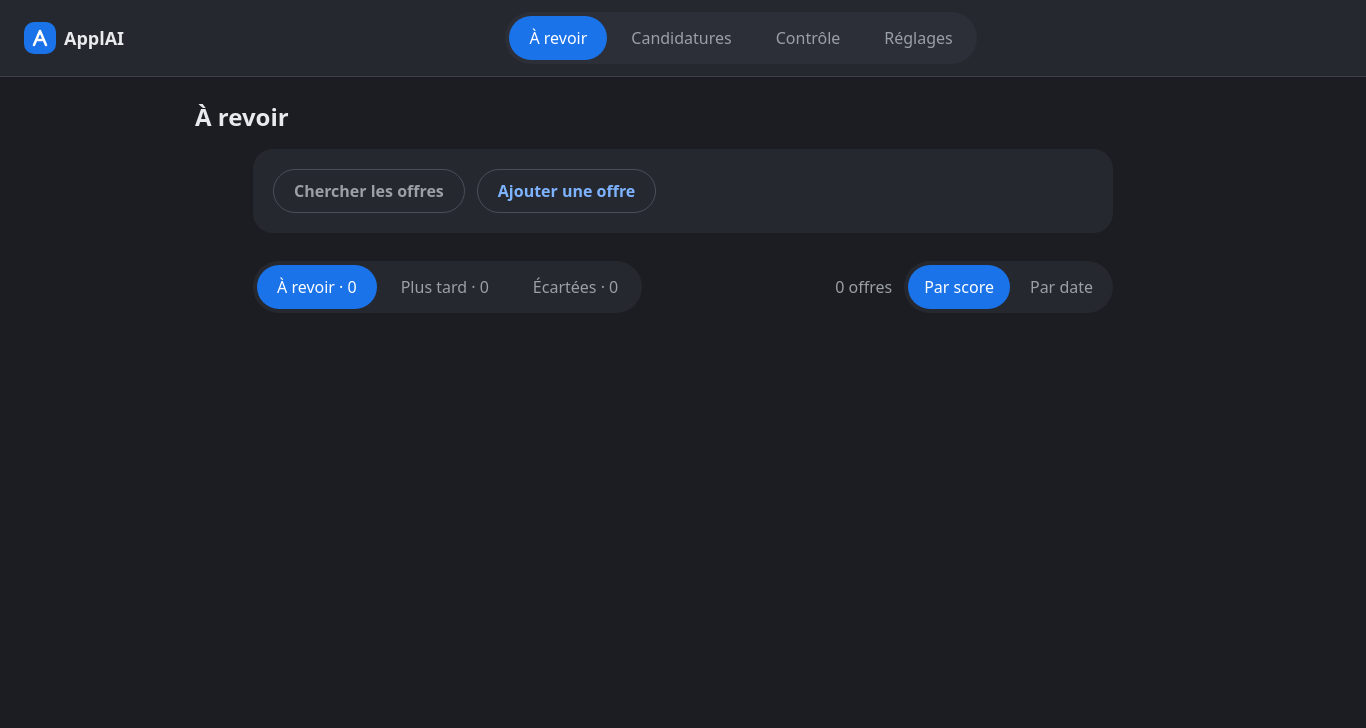
Scenario: the Correct screen › shows the offer, each question, its text, its cited facts and its judge warning, in fr
Click the button "Candidatures" at (682, 38), box [611, 16, 752, 60]
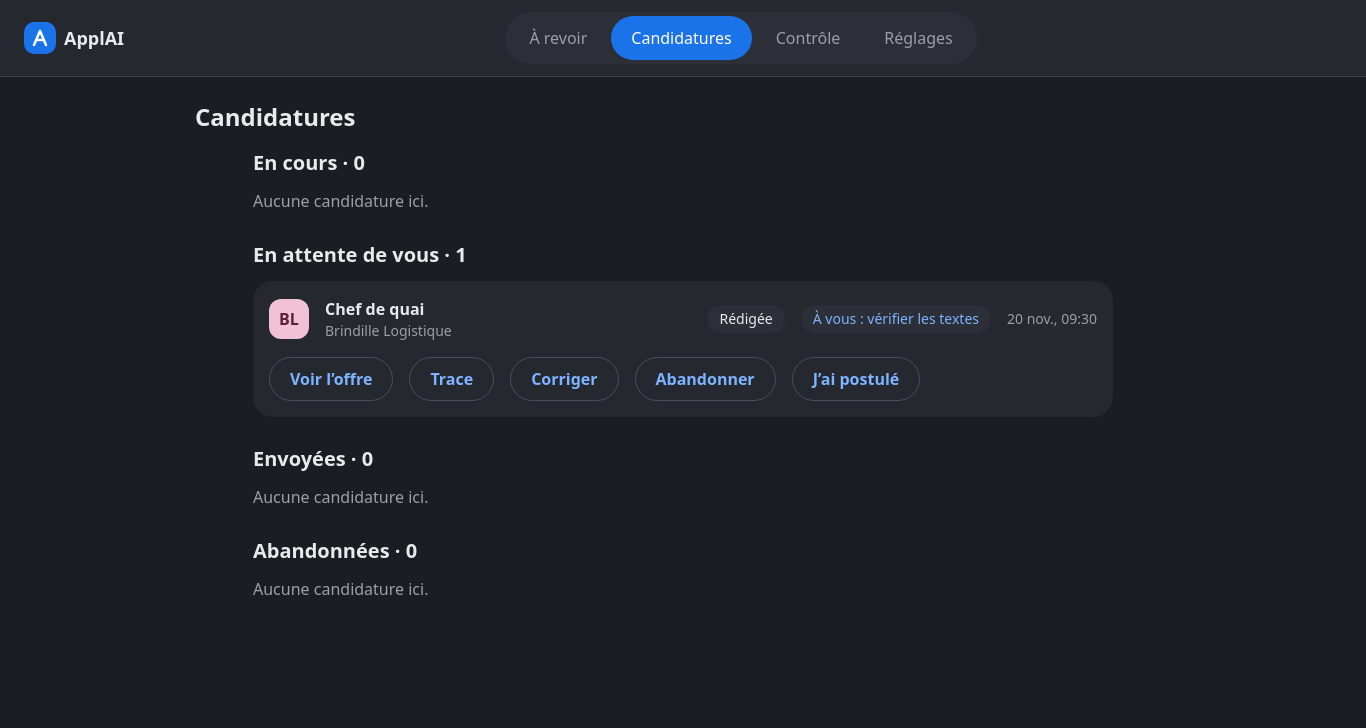
Click the button "Corriger" at (564, 379), box [510, 357, 618, 401]
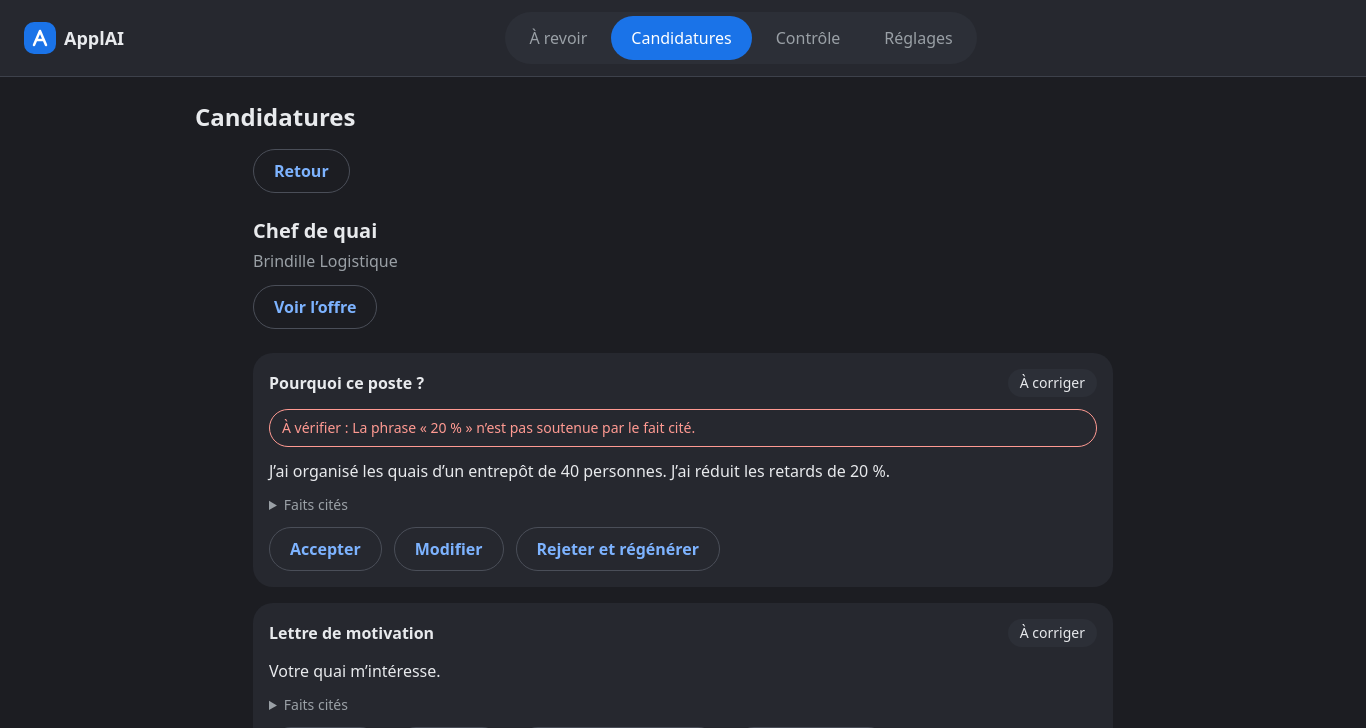
Expected: the heading "Chef de quai" is shown, [253, 217, 377, 244]
Expected: the text "Brindille Logistique" is shown, [253, 250, 398, 272]
Expected: the text "J’ai organisé les quais" is shown, [269, 460, 890, 482]
